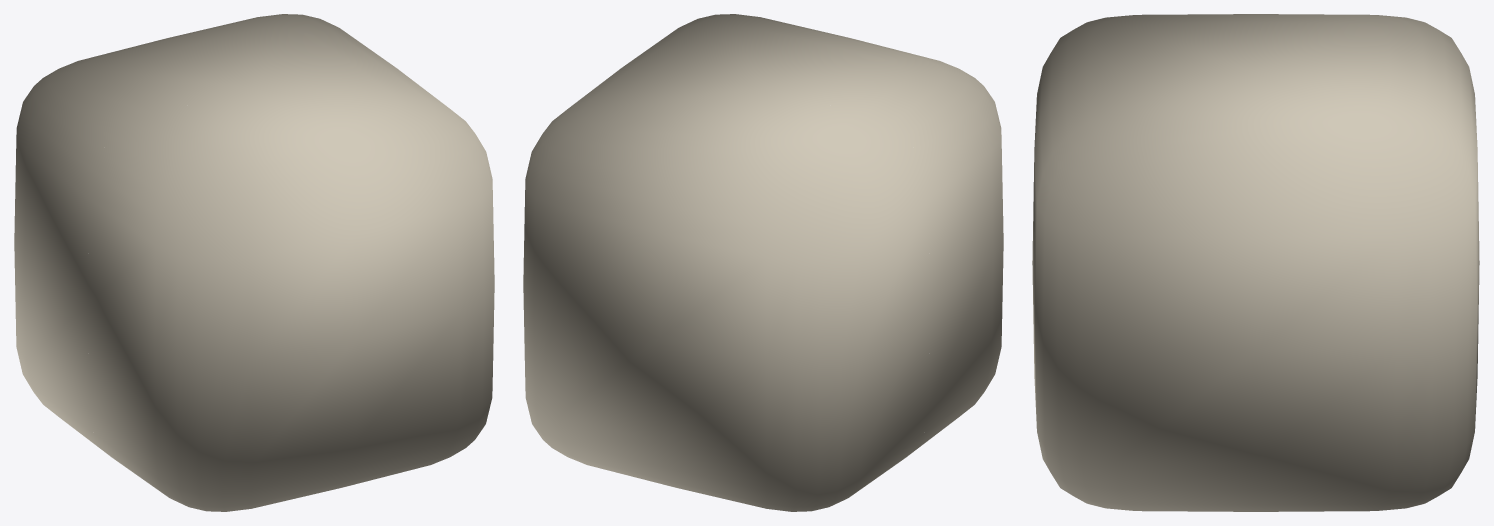
File: vidaxl-outdoor-42004126-g2-proxy.glb
3 views of the same model, side by side, from view 1: azimuth 30°, elevation 25°; view 2: azimuth 150°, elevation 25°; view 3: azimuth 270°, elevation 25° (orthographic). The views are drawn at different scales.
Parts seen in each view (by area): view 1: proxy_body; view 2: proxy_body; view 3: proxy_body.
Boxes of the visible parts, x1,y1,x2,y2 form: proxy_body: [14, 14, 494, 511]; proxy_body: [523, 14, 1003, 511]; proxy_body: [1032, 14, 1479, 511].
Bounding box in the file's own units: 0.7 × 0.7 × 0.75.
